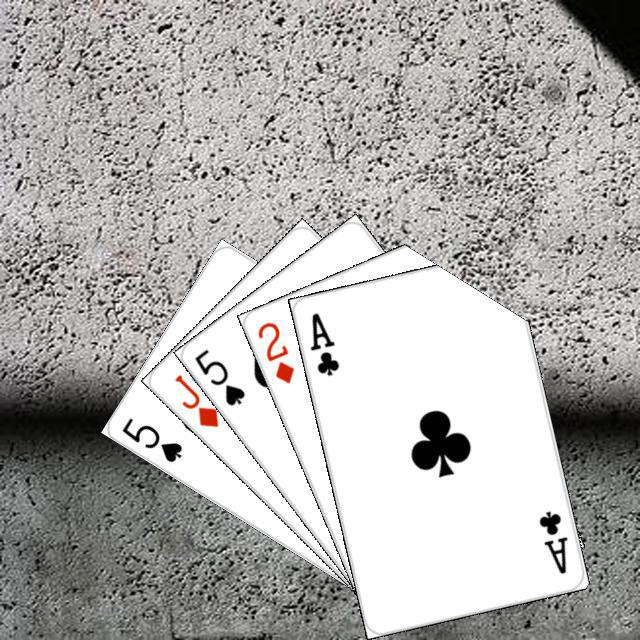2d: (252, 316, 296, 386)
5s: (189, 343, 247, 408), (117, 412, 184, 464)
Ac: (305, 307, 341, 378), (534, 506, 569, 576)
Jd: (169, 369, 221, 430)
